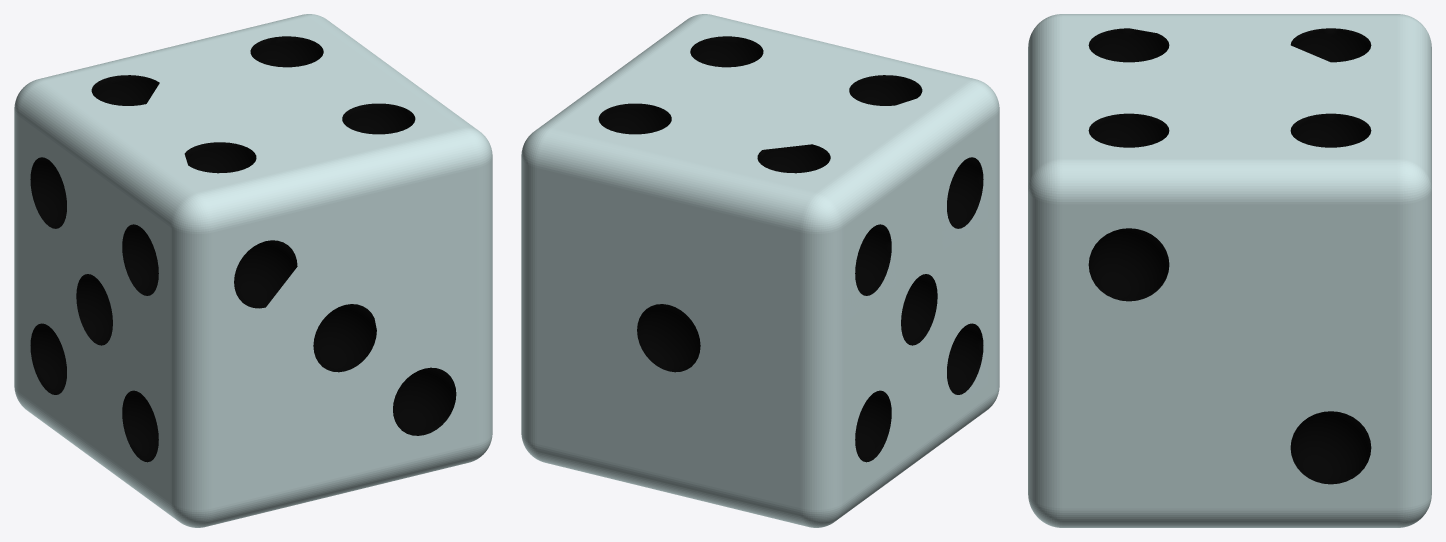
Rendered from dice2.fbx.
3 renders of one model, left to right at view 1: azimuth 30°, elevation 25°; view 2: azimuth 150°, elevation 25°; view 3: azimuth 270°, elevation 25°, orthographic. The views are drawn at different scales.
Visible parts, largest first — view 1: Cube; view 2: Cube; view 3: Cube.
Part boxes in pixels (box(x1,y1,x2,y2)): Cube: box(14, 14, 492, 527); Cube: box(521, 14, 999, 527); Cube: box(1028, 14, 1431, 527).
Bounding box in the file's own units: 100 × 100 × 100.
